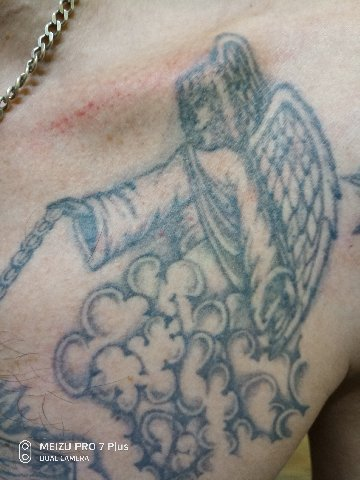tatu1_angel: (50, 31, 342, 368)
